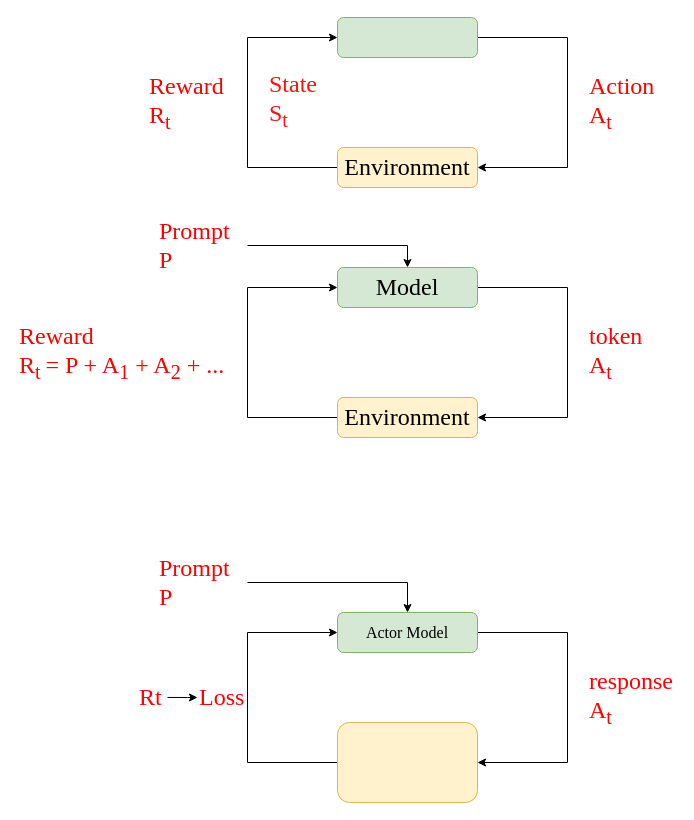
Some shapes in this 694 by 820 pixel diagram are drawn without their labels. The box of each missing label's shape, as (x1, y1, x2, y2) in pixels:
Agent: (336, 16, 478, 58)
Reference Model Critic Model Reward Model: (336, 722, 478, 802)
